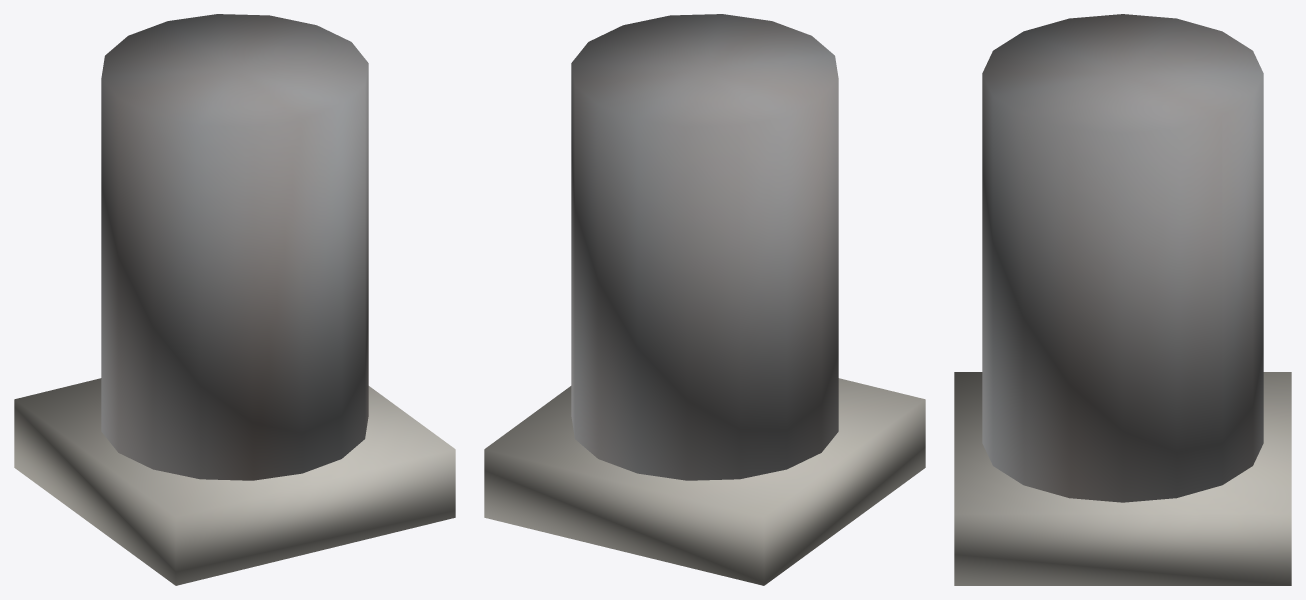
File: Tangki_Air_Rooftop.fbx
3 views of the same model, side by side, from view 1: azimuth 30°, elevation 25°; view 2: azimuth 150°, elevation 25°; view 3: azimuth 270°, elevation 25° (orthographic). The views are drawn at different scales.
Visible parts, largest first — view 1: Tangki_Air_Rooftop; view 2: Tangki_Air_Rooftop; view 3: Tangki_Air_Rooftop.
Boxes of the visible parts, x1,y1,x2,y2 form: Tangki_Air_Rooftop: (14, 14, 455, 585); Tangki_Air_Rooftop: (484, 14, 925, 585); Tangki_Air_Rooftop: (954, 14, 1291, 585).
Bounding box in the file's own units: 1.2 × 1.73 × 1.2.
